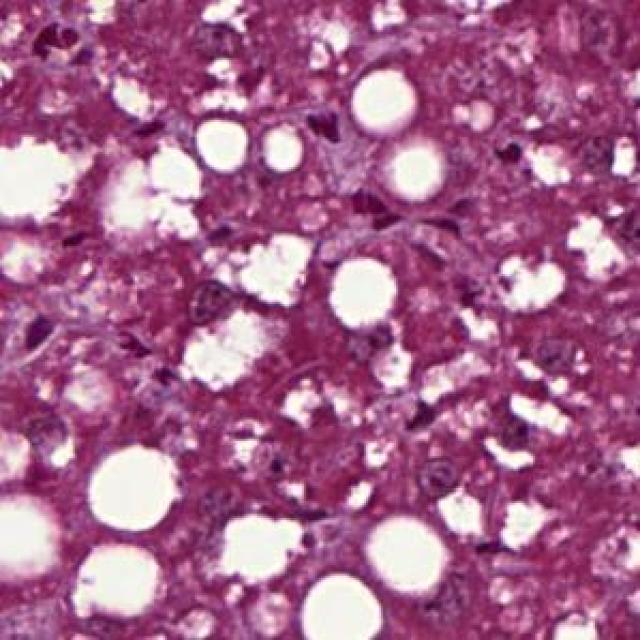ballooning: (88, 137, 210, 255), (173, 299, 289, 392)
